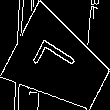L_SE: (34, 39, 86, 90)
